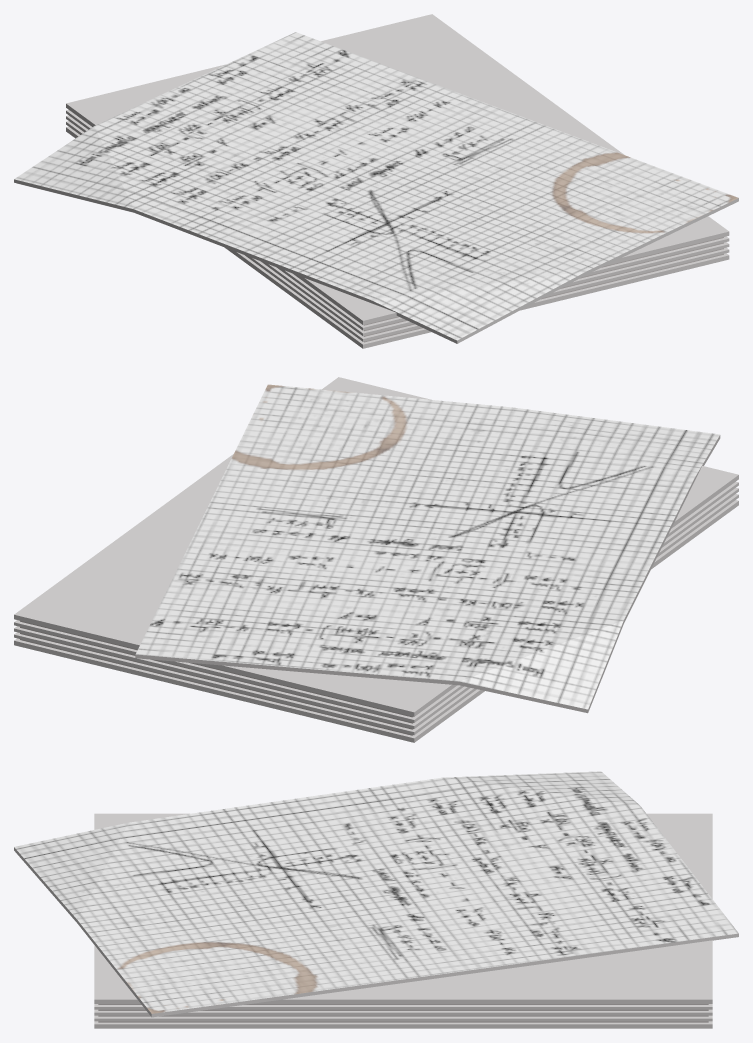
File: PapperStack_T.fbx
The picture shows the model from 3 angles, top to bottom: view 1: azimuth 30°, elevation 25°; view 2: azimuth 150°, elevation 25°; view 3: azimuth 270°, elevation 25°; orthographic projection. The views are drawn at different scales.
Parts seen in each view (by area): view 1: PapperStack_T; view 2: PapperStack_T; view 3: PapperStack_T.
Part boxes in pixels (x1,y1,x2,y2): PapperStack_T: (14,14,738,348); PapperStack_T: (14,377,738,742); PapperStack_T: (14,771,738,1028).
Size of the model in its own units: 23.42 by 1.42 by 27.77.
